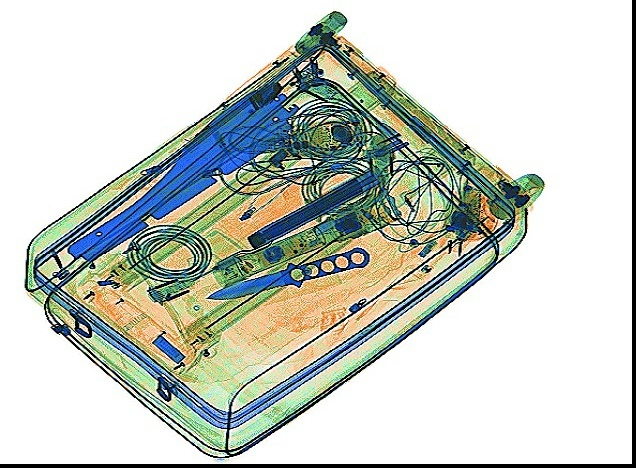knife: (201, 244, 371, 302)
